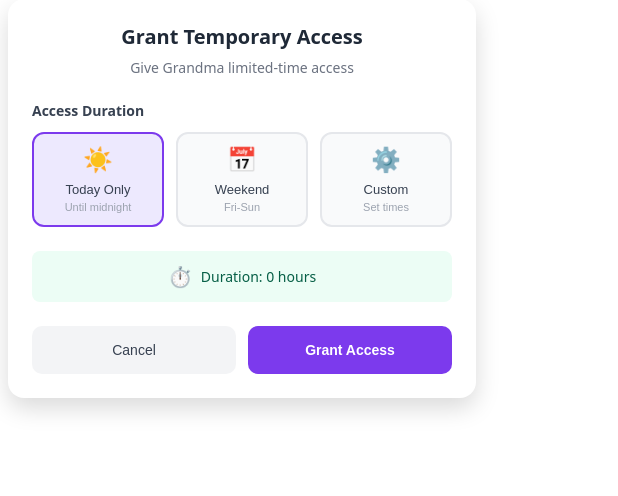
Scenario: TemporaryAccessGrantForm › Custom Date Selection (AC1) › shows custom date inputs when custom preset selected
Click the button with test id "preset-custom". click: (386, 180)
box: [320, 132, 452, 227]
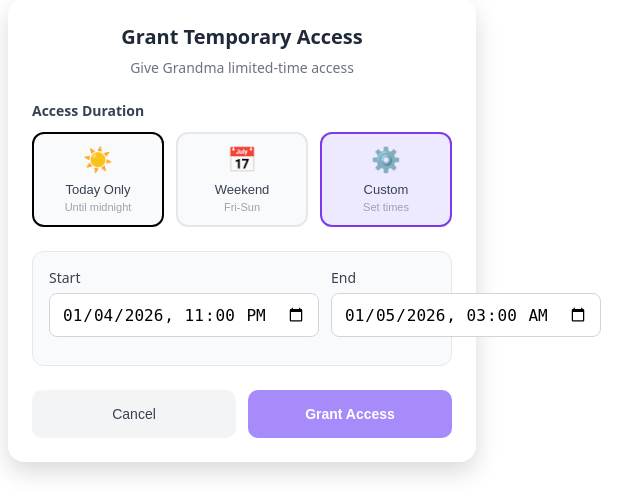
Now the element with test id "custom-date-section" is shown, box [32, 251, 452, 366]
Now the field with test id "custom-start-input" is shown, box [49, 293, 319, 337]
Now the field with test id "custom-end-input" is shown, box [331, 293, 601, 337]
